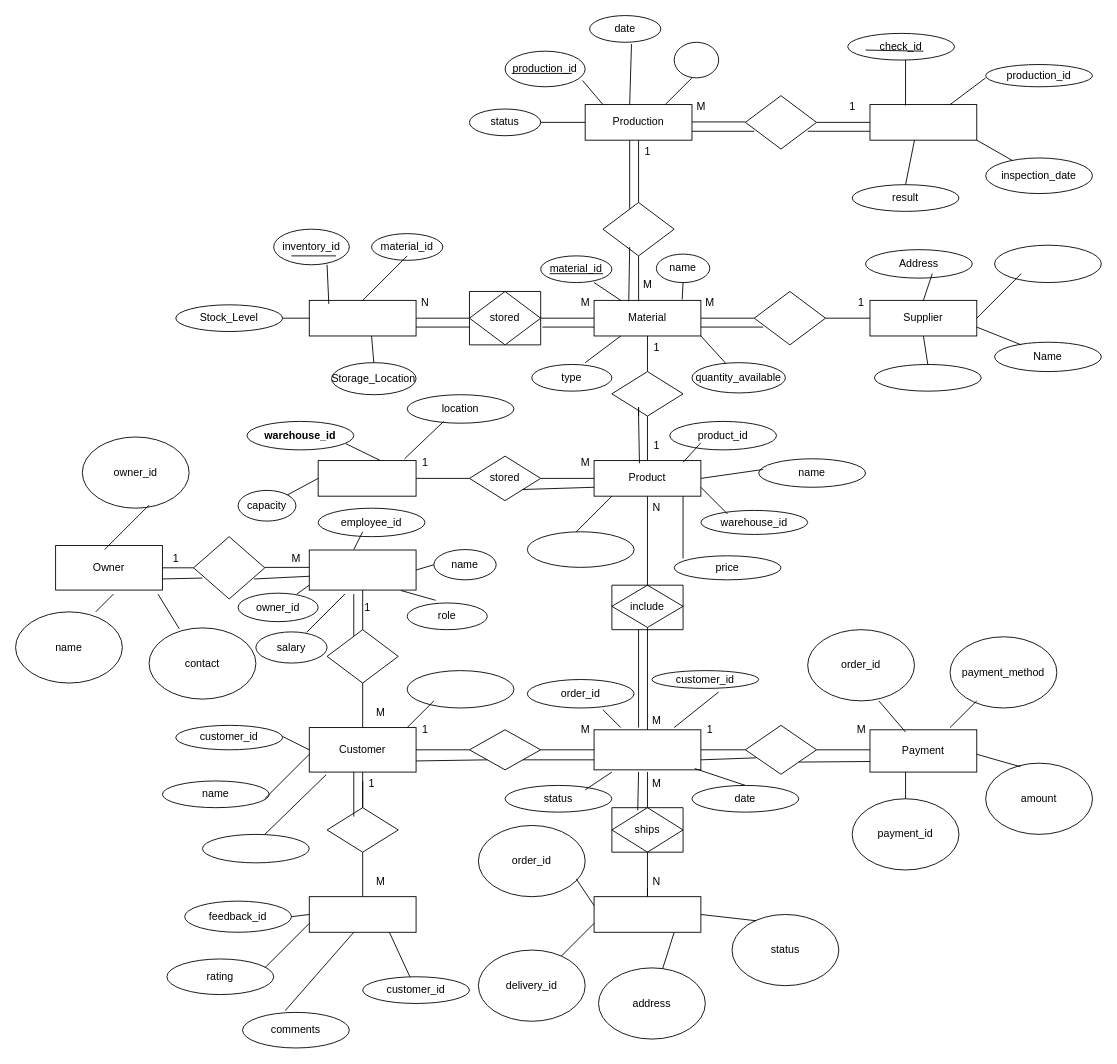
The diagram is 1117 pixels wide and 1064 high, and some of its shapes have lost their labels. The centre of each missing label's shape, as x and y in pixels:
category: point (580, 549)
Contact_Number: point (1047, 263)
Delivery: point (647, 914)
email: point (255, 848)
Employee: point (362, 569)
Feedback: point (362, 914)
handle: point (362, 656)
Inventory: point (362, 317)
made: point (647, 393)
Order: point (647, 749)
phone: point (460, 689)
place: point (505, 749)
provide: point (362, 829)
quantity: point (696, 59)
Quickcheck: point (923, 122)
require: point (780, 749)
supervise: point (229, 567)
supplied: point (789, 318)
Supplier_ID: point (927, 377)
undergoes: point (780, 122)
use: point (638, 229)
Warehouse: point (366, 478)
